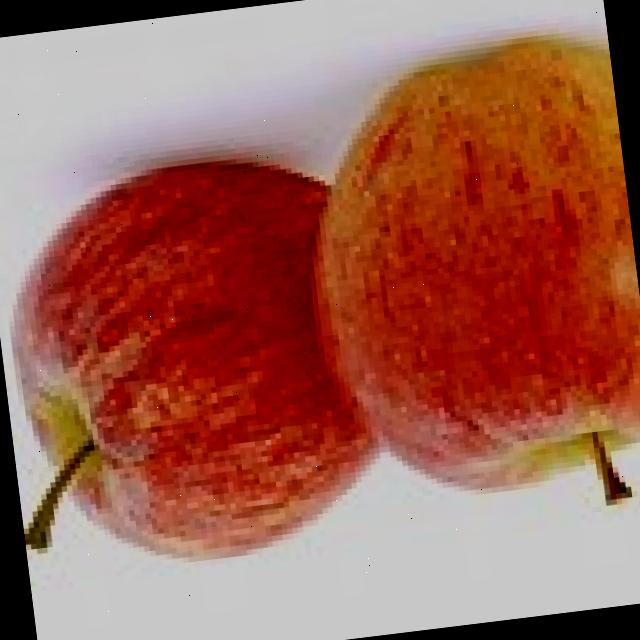apple: (283, 33, 640, 549), (0, 144, 350, 586)
